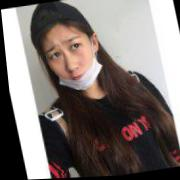WRONG: (38, 27, 101, 95)
